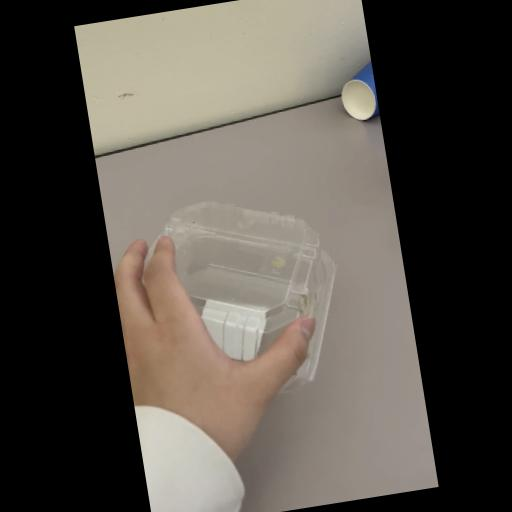lp_paper_cup: (336, 56, 380, 124)
small_plastic_container: (111, 182, 357, 412)
